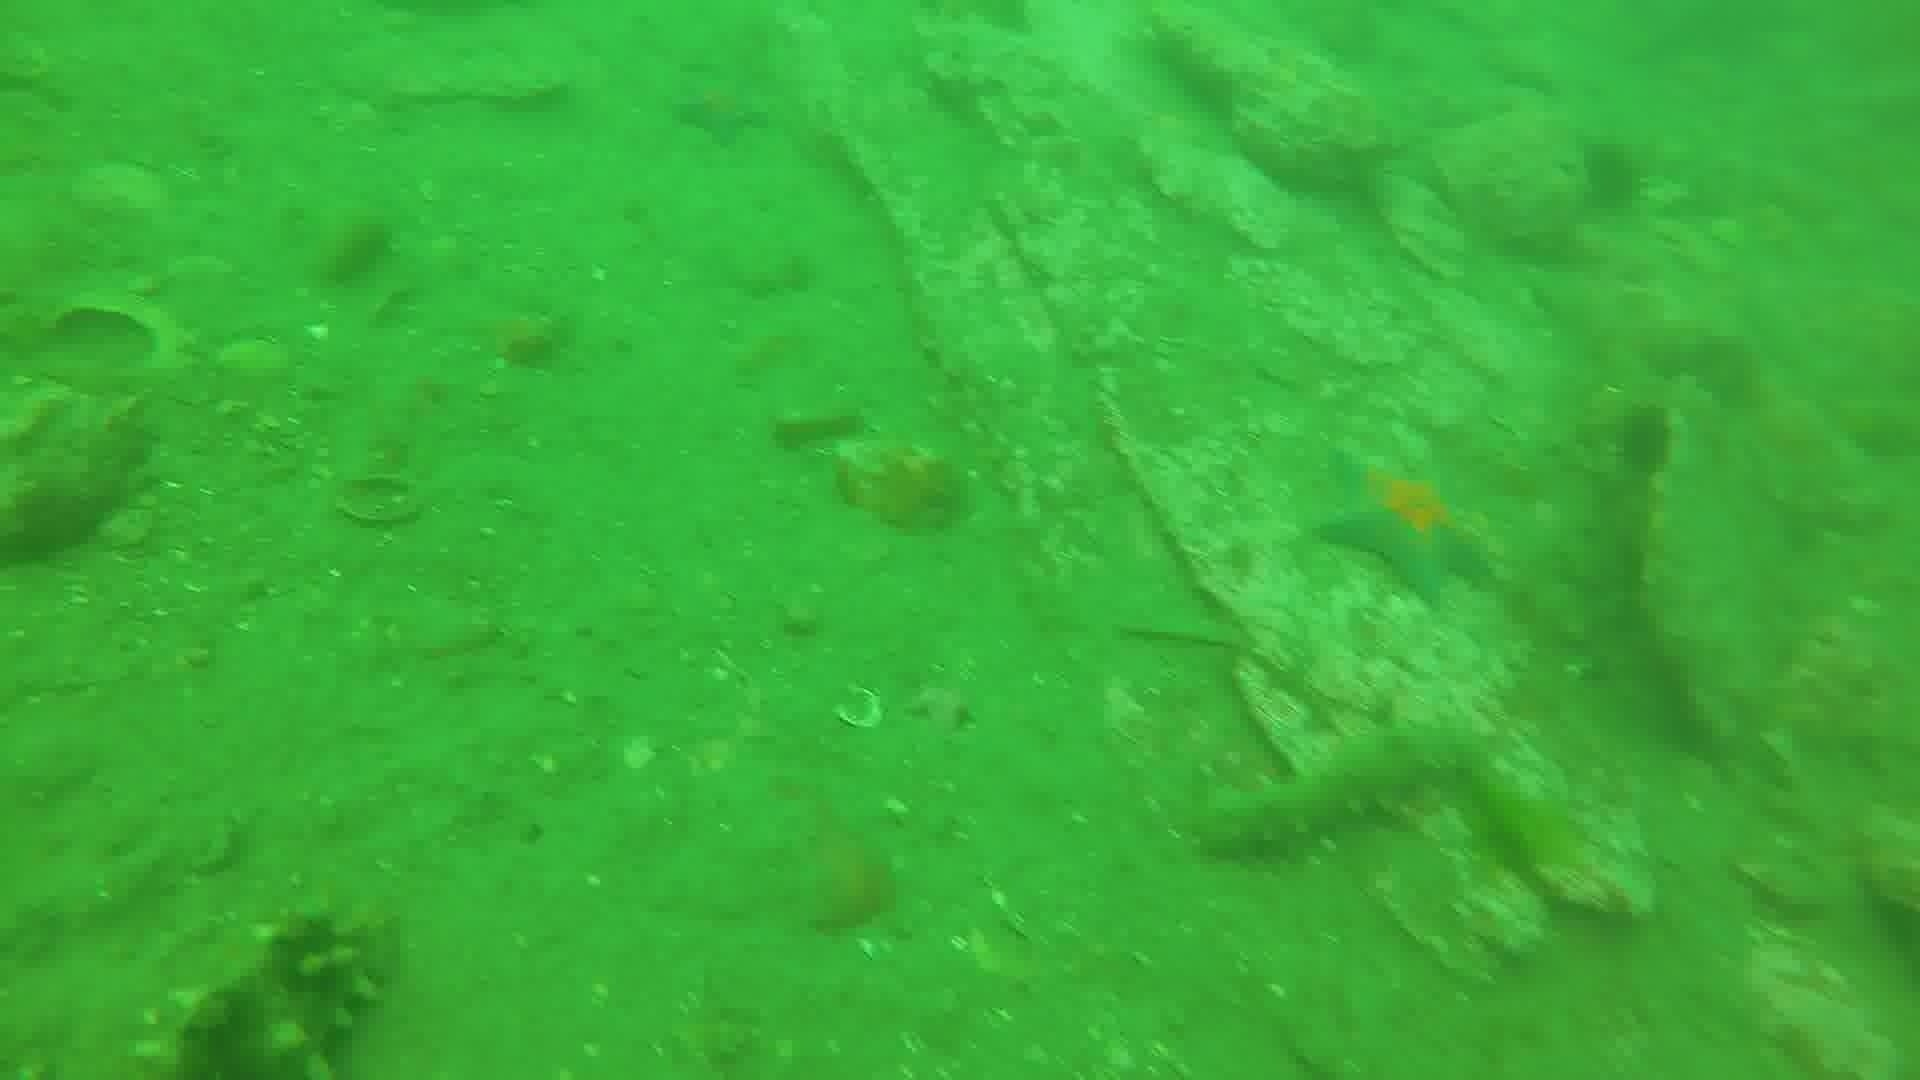echinus: (1571, 136, 1651, 218), (1607, 401, 1683, 481)
holothurian: (1189, 712, 1482, 866), (167, 901, 394, 1077)
starfish: (1311, 443, 1494, 605), (667, 71, 773, 152)
